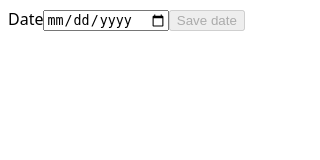
Test: PlanDate › shows the server's error when a save fails
In the date field labelled "Date": x=106, y=20 [44,10,169,31], type "2026-11-20"
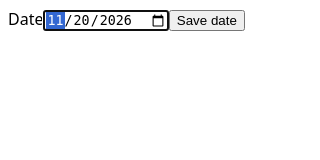
Click the button "Save date": x=207, y=20 [169,10,245,31]
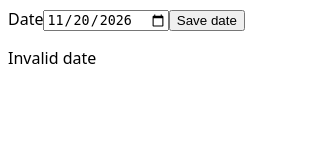
Expected: the message reads "Invalid date", [8,47,96,69]
